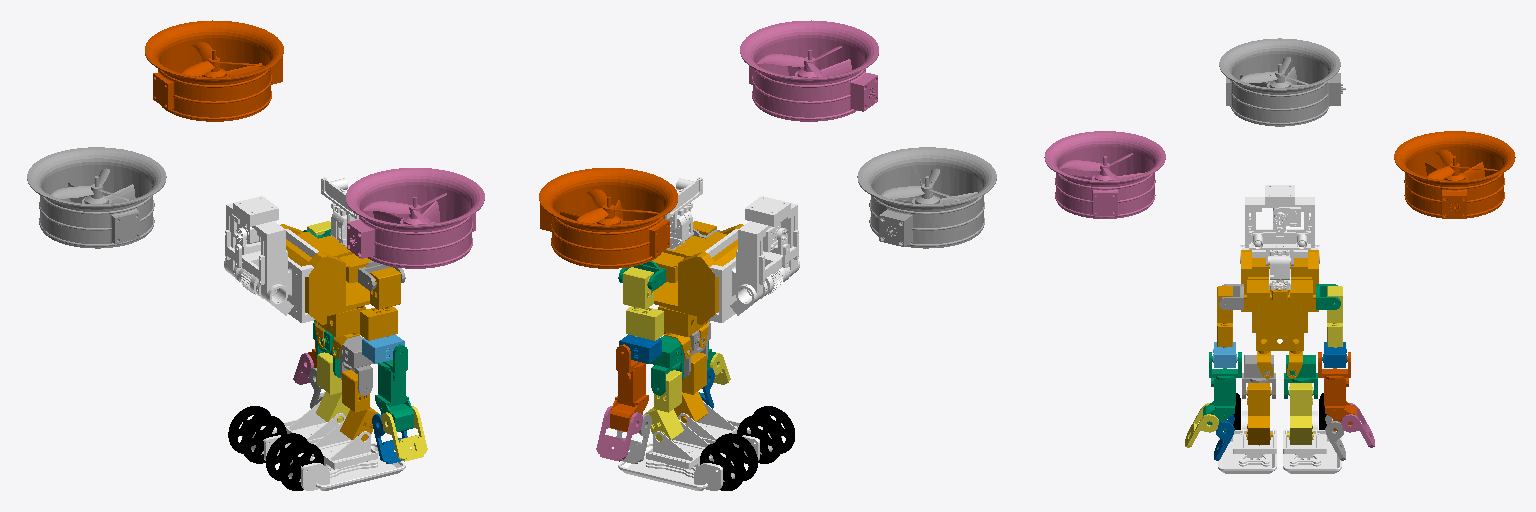
--- What the picture shows (computed from the rendered views, not written in the file) ---
Views: 3 orthographic renders of the robot side by side, from view 1: azimuth 30°, elevation 25°; view 2: azimuth 150°, elevation 25°; view 3: azimuth 270°, elevation 25°.
Model khrsugihara with 36 links and 35 joints (30 continuous, 5 fixed), rooted at BASE_LINK, posed all joints at 0.
Links seen in each view (by area): view 1: thrust_link2, thrust_link1, thrust_link3, BASE_LINK, DOCKING_HAND, RLEG_LINK2, RARM_LINK1, RARM_LINK3, DOCKING_PIPE, RLEG_LINK1, LLEG_LINK1, LLEG_LINK2 (+9 smaller); view 2: thrust_link2, thrust_link1, thrust_link3, BASE_LINK, DOCKING_HAND, LLEG_LINK2, LARM_LINK1, LARM_LINK3, DOCKING_PIPE, LLEG_LINK1, RLEG_LINK1, RLEG_LINK2 (+10 smaller); view 3: thrust_link3, thrust_link1, thrust_link2, BASE_LINK, DOCKING_HAND, LLEG_LINK2, RLEG_LINK2, LARM_LINK3, RARM_LINK3, LLEG_LINK1, RLEG_LINK1, HEAD_LINK1 (+8 smaller).
Link boxes in pixels (x1,y1,x2,y2): thrust_link2: (346,168,484,268); thrust_link1: (145,20,283,121); thrust_link3: (27,147,166,248); BASE_LINK: (280,224,371,358); DOCKING_HAND: (224,196,293,315); RLEG_LINK2: (288,420,405,490); RARM_LINK1: (360,267,400,340); RARM_LINK3: (375,344,413,431); DOCKING_PIPE: (233,229,318,322); RLEG_LINK1: (340,370,378,441); LLEG_LINK1: (316,352,349,422); LLEG_LINK2: (242,401,345,460); thrust_link2: (740,20,878,121); thrust_link1: (539,168,677,268); thrust_link3: (857,147,996,248); BASE_LINK: (652,224,743,358); DOCKING_HAND: (730,196,799,315); LLEG_LINK2: (618,420,734,490); LARM_LINK1: (623,267,663,340); LARM_LINK3: (610,344,648,431); DOCKING_PIPE: (705,229,790,322); LLEG_LINK1: (645,370,683,441); RLEG_LINK1: (674,352,707,422); RLEG_LINK2: (678,401,781,460); thrust_link3: (1219,38,1345,126); thrust_link1: (1394,131,1515,218); thrust_link2: (1044,131,1165,218); BASE_LINK: (1241,250,1318,378); DOCKING_HAND: (1240,185,1319,263); LLEG_LINK2: (1283,411,1341,473); RLEG_LINK2: (1218,411,1276,473); LARM_LINK3: (1318,352,1356,430); RARM_LINK3: (1203,352,1241,430); LLEG_LINK1: (1287,383,1313,444); RLEG_LINK1: (1246,383,1272,444); HEAD_LINK1: (1249,231,1310,266).
Bounding box of the posed robot: 0.4695 × 0.64 × 0.4422 m (x, y, z).
30 mesh visuals loaded from 26 distinct referenced files (25 binary STL); not drawn: 1 (reference not matched to a file when rendering).

robot.urdf — khrsugihara:
<?xml version="1.0"?>
<robot name="khrsugihara"
       xmlns:xi="http://www.w3.org/2001/XInclude">

  <mujoco>
    <compiler balanceinertia="true"/>
  </mujoco>

  <link name="BASE_LINK">
    <visual>
      <origin xyz="0.0028 0 0.31981" rpy="0 -0 0"/>
      <geometry>
        <mesh filename="bodyset93922848311048_mesh.stl" scale="1 1 1" />
      </geometry>
    </visual>
    <collision>
      <origin xyz="0.0028 0 0.31981" rpy="0 -0 0"/>
      <geometry>
        <mesh filename="bodyset93922848311048_mesh.stl" scale="1 1 1" />
      </geometry>
    </collision>
    <inertial>
      <mass value="0.512289" />
      <origin xyz="-0.021008 1.50905e-17 0.021848" rpy="0 -0 0"/>
      <inertia ixx="0.002091" ixy="3.87489e-05" ixz="-9.33077e-07" iyy="0.002015" iyz="-7.26528e-06" izz="0.001643"/>
    </inertial>
  </link>

  <link name="DOCKING_PIPE">
    <visual>
      <origin xyz="0 0 0" rpy="0 -0 0"/>
      <geometry>
        <mesh filename="lock_joint_combining_pipe_mount_khr_parallel.STL" scale="0.001 0.001 0.001" />
      </geometry>
      <material name="white">
        <color rgba="1.0 1.0 1.0 1.0"/>
      </material>
    </visual>
    <collision>
      <origin xyz="0 0 0" rpy="0 -0 0"/>
      <geometry>
        <mesh filename="combining_pipe_mount_khr_parallel.STL" scale="0.001 0.001 0.001" />
      </geometry>
    </collision>
    <inertial>
      <mass value="0.14" />
      <origin xyz="0 0 0" rpy="0 0 0"/>
      <inertia ixx="0.000001" ixy="0.000001" ixz="0.000001" iyy="0.000001" iyz="0.000001" izz="0.000001"/>
    </inertial>
  </link>

  <link name="DOCKING_HAND">
    <visual>
      <origin xyz="0 0 0" rpy="0 -0 0"/>
      <geometry>
        <mesh filename="lock_joint.STL" scale="0.001 0.001 0.001" />
      </geometry>
      <material name="white">
        <color rgba="1.0 1.0 1.0 1.0"/>
      </material>
    </visual>
    <collision>
      <origin xyz="0 0 0" rpy="0 -0 0"/>
      <geometry>
        <mesh filename="cam_hand_v6.STL" scale="0.001 0.001 0.001" />
      </geometry>
    </collision>
    <inertial>
      <mass value="0.2" />
      <origin xyz="0 0 0" rpy="0 0 0"/>
      <inertia ixx="0.000001" ixy="0.000001" ixz="0.000001" iyy="0.000001" iyz="0.000001" izz="0.000001"/>
    </inertial>
  </link>

  <link name="flight_unit_dummy"/>

  <link name="FLIGHT_UNIT">
    <visual>
      <!-- origin is temporary value -->
      <origin xyz="0 0 0" rpy="0 -0 0"/>
      <geometry>
        <mesh filename="kxr_flight_trirotor_base_link.STL" scale="0.001 0.001 0.001" />
      </geometry>
      <material name="white">
        <color rgba="1.0 1.0 1.0 1.0"/>
      </material>
    </visual>
    <collision>
      <origin xyz="0 0 0" rpy="0 -0 0"/>
      <geometry>
        <mesh filename="kxr_flight_trirotor_base_link.STL" scale="0.001 0.001 0.001" />
      </geometry>
    </collision>
    <inertial>
      <mass value="1.1" />
      <origin xyz="0 0 0" rpy="0 0 0"/>
      <inertia ixx="0" ixy="0" ixz="0" iyy="0" iyz="0" izz="0"/>
    </inertial>
  </link>

  <link name="thrust_link1">
    <visual>
      <origin xyz="0 0 0"/>
      <geometry>
        <mesh filename="thrust_link.STL" scale="0.001 0.001 0.001" />
      </geometry>
    </visual>
    <collision>
      <origin xyz="0 0 0"/>
      <geometry>
        <mesh filename="thrust_link.STL" scale="0.001 0.001 0.001" />
      </geometry>
    </collision>
  </link>

  <link name="thrust_link2">
    <visual>
      <origin xyz="0 0 0"/>
      <geometry>
        <mesh filename="thrust_link.STL" scale="0.001 0.001 0.001" />
      </geometry>
    </visual>
    <collision>
      <origin xyz="0 0 0"/>
      <geometry>
        <mesh filename="thrust_link.STL" scale="0.001 0.001 0.001" />
      </geometry>
    </collision>
  </link>

  <link name="thrust_link3">
    <visual>
      <origin xyz="0 0 0"/>
      <geometry>
        <mesh filename="thrust_link.STL" scale="0.001 0.001 0.001" />
      </geometry>
    </visual>
    <collision>
      <origin xyz="0 0 0"/>
      <geometry>
        <mesh filename="thrust_link.STL" scale="0.001 0.001 0.001" />
      </geometry>
    </collision>
  </link>

  <!-- <link name="HEAD_LINK0"> -->
  <!--   <visual> -->
  <!--     <origin xyz="0.0115 0 0.064" rpy="0 -0 0"/> -->
  <!--     <geometry> -->
  <!--       <mesh filename="package://kxr_robot_description/model/khrsugihara/mesh/simple/HEAD_LINK0_mesh.stl" scale="1 1 1" /> -->
  <!--     </geometry> -->
  <!--   </visual> -->
  <!--   <collision> -->
  <!--     <origin xyz="0.0115 0 0.064" rpy="0 -0 0"/> -->
  <!--     <geometry> -->
  <!--       <mesh filename="package://kxr_robot_description/model/khrsugihara/mesh/simple/HEAD_LINK0_mesh.stl" scale="1 1 1" /> -->
  <!--     </geometry> -->
  <!--   </collision> -->
  <!--   <inertial> -->
  <!--     <mass value="0.014361" /> -->
  <!--     <origin xyz="0.003285 -2.30629e-06 0.020555" rpy="0 -0 0"/> -->
  <!--     <inertia ixx="4.95528e-05" ixy="-1.38168e-11" ixz="-7.3432e-08" iyy="4.45537e-05" iyz="-2.01845e-09" izz="1.47912e-05"/> -->
  <!--   </inertial> -->
  <!-- </link> -->


  <link name="HEAD_LINK0">
    <visual>
      <origin xyz="0 0 0" rpy="0 -0 0"/>
      <geometry>
        <mesh filename="head_link1.STL" scale="0.001 0.001 0.001" />
      </geometry>
      <material name="white">
        <color rgba="1.0 1.0 1.0 1.0"/>
      </material>
    </visual>
    <collision>
      <origin xyz="0 0 0" rpy="0 -0 0"/>
      <geometry>
        <mesh filename="head_link1.STL" scale="0.001 0.001 0.001" />
      </geometry>
    </collision>
    <inertial>
      <mass value="0.014361" />
      <origin xyz="0.003285 -2.30629e-06 0.020555" rpy="0 -0 0"/>
      <!-- <mass value="0.0149" /> -->
      <!-- <origin xyz="0.002048 0 0.020747" rpy="0 -0 0"/> -->
      <inertia ixx="4.95528e-05" ixy="-1.38168e-11" ixz="-7.3432e-08" iyy="4.45537e-05" iyz="-2.01845e-09" izz="1.47912e-05"/>
    </inertial>
  </link>

  <link name="HEAD_LINK1">
    <visual>
      <origin xyz="0 0 0" rpy="0 -0 0"/>
      <geometry>
        <mesh filename="head_link2.STL" scale="0.001 0.001 0.001" />
      </geometry>
      <material name="white">
        <color rgba="1.0 1.0 1.0 1.0"/>
      </material>
    </visual>
    <collision>
      <origin xyz="0 0 0" rpy="0 -0 0"/>
      <geometry>
        <mesh filename="head_link2.STL" scale="0.001 0.001 0.001" />
      </geometry>
    </collision>
    <inertial>
      <mass value="0.014361" />
      <origin xyz="0.003285 -2.30629e-06 0.020555" rpy="0 -0 0"/>
      <!-- <mass value="0.0149" /> -->
      <!-- <origin xyz="0.002048 0 0.020747" rpy="0 -0 0"/> -->
      <inertia ixx="4.95528e-05" ixy="-1.38168e-11" ixz="-7.3432e-08" iyy="4.45537e-05" iyz="-2.01845e-09" izz="1.47912e-05"/>
    </inertial>
  </link>

  <link name="LARM_LINK0">
    <visual>
      <origin xyz="0.0115 0.049 0.0474" rpy="0 -0 0"/>
      <geometry>
        <mesh filename="LARM_LINK0_mesh.stl" scale="1 1 1" />
      </geometry>
    </visual>
    <collision>
      <origin xyz="0.0115 0.049 0.0474" rpy="0 -0 0"/>
      <geometry>
        <mesh filename="LARM_LINK0_mesh.stl" scale="1 1 1" />
      </geometry>
    </collision>
    <inertial>
      <mass value="0.016639" />
      <origin xyz="1.73472e-18 0 0.009163" rpy="0 -0 0"/>
      <inertia ixx="3.04092e-05" ixy="-4.27652e-10" ixz="4.33505e-10" iyy="2.27027e-05" iyz="2.22978e-08" izz="2.23763e-05"/>
    </inertial>
  </link>

  <link name="LARM_LINK1">
    <visual>
      <origin xyz="0.01975 0.0255 0" rpy="0 -0 0"/>
      <geometry>
        <mesh filename="LARM_LINK1_mesh.stl" scale="1 1 1" />
      </geometry>
    </visual>
    <collision>
      <origin xyz="0.01975 0.0255 0" rpy="0 -0 0"/>
      <geometry>
        <mesh filename="LARM_LINK1_mesh.stl" scale="1 1 1" />
      </geometry>
    </collision>
    <inertial>
      <mass value="0.08566" />
      <origin xyz="-0.02425 0 -0.03275" rpy="0 -0 0"/>
      <inertia ixx="4.0299e-05" ixy="-8.32865e-25" ixz="-3.89972e-23" iyy="6.60435e-05" iyz="9.2227e-21" izz="7.43506e-05"/>
    </inertial>
  </link>

  <link name="LARM_LINK2">
    <visual>
      <origin xyz="-0.016 0 -0.075" rpy="0 -0 0"/>
      <geometry>
        <mesh filename="LARM_LINK2_mesh.stl" scale="1 1 1" />
      </geometry>
    </visual>
    <collision>
      <origin xyz="-0.016 0 -0.075" rpy="0 -0 0"/>
      <geometry>
        <mesh filename="LARM_LINK2_mesh.stl" scale="1 1 1" />
      </geometry>
    </collision>
    <inertial>
      <mass value="0.04283" />
      <origin xyz="0.0115 0 1.04083e-17" rpy="0 -0 0"/>
      <inertia ixx="2.11725e-05" ixy="4.25575e-26" ixz="-1.88949e-23" iyy="3.40543e-05" iyz="1.04267e-20" izz="3.71848e-05"/>
    </inertial>
  </link>

  <link name="LARM_LINK3">
    <visual>
      <origin xyz="0.005 -0.02 -0.0135" rpy="0 -0 0"/>
      <geometry>
        <mesh filename="LARM_LINK3_mesh.stl" scale="1 1 1" />
      </geometry>
    </visual>
    <collision>
      <origin xyz="0.005 -0.02 -0.0135" rpy="0 -0 0"/>
      <geometry>
        <mesh filename="LARM_LINK3_mesh.stl" scale="1 1 1" />
      </geometry>
    </collision>
    <inertial>
      <mass value="0.103189" />
      <origin xyz="0.020249 0.078299 -0.090369" rpy="0 -0 0"/>
      <inertia ixx="0.000181" ixy="-4.31592e-10" ixz="7.13592e-09" iyy="0.000153" iyz="1.62738e-08" izz="0.00013"/>
    </inertial>
  </link>

  <link name="LARM_LINK4">
    <visual>
      <origin xyz="0 0.041 -0.0885" rpy="0 -0 0"/>
      <geometry>
        <mesh filename="LARM_LINK4_mesh.stl" scale="1 1 1" />
      </geometry>
    </visual>
    <collision>
      <origin xyz="0 0.041 -0.0885" rpy="0 -0 0"/>
      <geometry>
        <mesh filename="LARM_LINK4_mesh.stl" scale="1 1 1" />
      </geometry>
    </collision>
    <inertial>
      <mass value="0.013267" />
      <origin xyz="-1.73472e-17 0.035557 -0.037608" rpy="0 -0 0"/>
      <inertia ixx="0.000172" ixy="-2.54028e-09" ixz="-2.35822e-09" iyy="0.000111" iyz="-1.52851e-07" izz="7.02482e-05"/>
    </inertial>
  </link>

  <link name="LARM_LINK5">
    <visual>
      <origin xyz="0 0.02 -0.099" rpy="0 -0 0"/>
      <geometry>
        <mesh filename="LARM_LINK5_mesh.stl" scale="1 1 1" />
      </geometry>
    </visual>
    <collision>
      <origin xyz="0 0.02 -0.099" rpy="0 -0 0"/>
      <geometry>
        <mesh filename="LARM_LINK5_mesh.stl" scale="1 1 1" />
      </geometry>
    </collision>
    <inertial>
      <mass value="0.013267" />
      <origin xyz="6.93889e-18 0.003352 -0.05371" rpy="0 -0 0"/>
      <inertia ixx="0.000166" ixy="-2.54028e-09" ixz="-2.35822e-09" iyy="0.000136" iyz="-1.52851e-07" izz="3.93408e-05"/>
    </inertial>
  </link>

  <link name="LARM_DUMMY_LINK">
    <inertial>
      <mass value="0.001" />
      <inertia ixx="0.000001" ixy="0.000001" ixz="0.000001" iyy="0.000001" iyz="0.000001" izz="0.000001"/>
    </inertial>
  </link>

  <link name="LLEG_DUMMY_LINK_0">
    <inertial>
      <mass value="0.001" />
      <inertia ixx="0.000001" ixy="0.000001" ixz="0.000001" iyy="0.000001" iyz="0.000001" izz="0.000001"/>
    </inertial>
  </link>

  <link name="LLEG_LINK0">
    <visual>
      <origin xyz="0.0185 0.017 -0.06265" rpy="0 -0 0"/>
      <geometry>
        <mesh filename="LLEG_LINK0_mesh.stl" scale="1 1 1" />
      </geometry>
    </visual>
    <collision>
      <origin xyz="0.0185 0.017 -0.06265" rpy="0 -0 0"/>
      <geometry>
        <mesh filename="LLEG_LINK0_mesh.stl" scale="1 1 1" />
      </geometry>
    </collision>
    <inertial>
      <mass value="0.059469" />
      <origin xyz="-0.02 0.0115 -0.006481" rpy="0 -0 0"/>
      <inertia ixx="6.38537e-05" ixy="-4.27652e-10" ixz="4.33505e-10" iyy="7.24478e-05" iyz="2.22978e-08" izz="4.57767e-05"/>
    </inertial>
  </link>

  <link name="LLEG_LINK1">
    <visual>
      <origin xyz="-0.021 -0.00825 -0.0385" rpy="0 -0 0"/>
      <geometry>
        <mesh filename="LLEG_LINK1_mesh.stl" scale="1 1 1" />
      </geometry>
    </visual>
    <collision>
      <origin xyz="-0.021 -0.00825 -0.0385" rpy="0 -0 0"/>
      <geometry>
        <mesh filename="LLEG_LINK1_mesh.stl" scale="1 1 1" />
      </geometry>
    </collision>
    <inertial>
      <mass value="0.08566" />
      <origin xyz="0.002875 0.02 -0.03327" rpy="0 -0 0"/>
      <inertia ixx="6.66048e-05" ixy="3.53549e-22" ixz="-1.97268e-23" iyy="0.000102" iyz="1.65264e-20" izz="6.47859e-05"/>
    </inertial>
  </link>

  <link name="LLEG_LINK2">
    <visual>
      <origin xyz="0 0 0" rpy="0 -0 0"/>
      <geometry>
        <mesh filename="lleg_foot_force.stl" scale="0.001 0.001 0.001" />
      </geometry>
      <material name="white">
        <color rgba="1.0 1.0 1.0 1.0"/>
      </material>
    </visual>
    <collision>
      <origin xyz="0 0 0" rpy="0 -0 0"/>
      <geometry>
        <mesh filename="lleg_foot_force.stl" scale="0.001 0.001 0.001" />
      </geometry>
    </collision>
    <inertial>
      <mass value="0.23"/>
      <origin xyz="0.005048 0.02 -0.042868" rpy="0 -0 0"/>
      <inertia ixx="0.00058" ixy="-0.00032" ixz="0.00026" iyy="0.00093" iyz="-0.00024" izz="0.00103"/>
    </inertial>
  </link>

  <link name="LLEG_LINK_WHEEL1">
    <visual>
      <origin xyz="0 0 0" rpy="0 -0 0"/>
      <geometry>
        <mesh filename="wheel.stl" scale="0.001 0.001 0.001" />
      </geometry>
      <material name="black">
        <color rgba=".0 .0 .0 1.0"/>
      </material>
    </visual>
    <collision>
      <origin xyz="0 0 0" rpy="0 -0 0"/>
      <geometry>
        <mesh filename="wheel.stl" scale="0.001 0.001 0.001" />
      </geometry>
    </collision>
    <inertial>
      <mass value="0.025" />
      <origin xyz="0 0 0" rpy="0 -0 0"/>
      <inertia ixx="6.69e-6" ixy="0" ixz="0" iyy="1.293e-5" iyz="0" izz="6.69e-6"/>
    </inertial>
  </link>

  <link name="LLEG_LINK_WHEEL2">
    <visual>
      <origin xyz="0 0 0" rpy="0 -0 0"/>
      <geometry>
        <mesh filename="wheel.stl" scale="0.001 0.001 0.001" />
      </geometry>
      <material name="black">
        <color rgba=".0 .0 .0 1.0"/>
      </material>
    </visual>
    <collision>
      <origin xyz="0 0 0" rpy="0 -0 0"/>
      <geometry>
        <mesh filename="wheel.stl" scale="0.001 0.001 0.001" />
      </geometry>
    </collision>
    <inertial>
      <mass value="0.025" />
      <origin xyz="0 0 0" rpy="0 -0 0"/>
      <inertia ixx="6.69e-6" ixy="0" ixz="0" iyy="1.293e-5" iyz="0" izz="6.69e-6"/>
    </inertial>
  </link>

  <link name="RARM_LINK0">
    <visual>
      <origin xyz="0.0115 -0.049 0.0474" rpy="0 -0 0"/>
      <geometry>
        <mesh filename="RARM_LINK0_mesh.stl" scale="1 1 1" />
      </geometry>
    </visual>
    <collision>
      <origin xyz="0.0115 -0.049 0.0474" rpy="0 -0 0"/>
      <geometry>
        <mesh filename="RARM_LINK0_mesh.stl" scale="1 1 1" />
      </geometry>
    </collision>
    <inertial>
      <mass value="0.016639" />
      <origin xyz="1.73472e-18 0 0.009163" rpy="0 -0 0"/>
      <inertia ixx="3.04092e-05" ixy="-4.27652e-10" ixz="4.33505e-10" iyy="2.27027e-05" iyz="2.22978e-08" izz="2.23763e-05"/>
    </inertial>
  </link>

  <link name="RARM_LINK1">
    <visual>
      <origin xyz="0.01975 -0.0255 0" rpy="0 -0 0"/>
      <geometry>
        <mesh filename="RARM_LINK1_mesh.stl" scale="1 1 1" />
      </geometry>
    </visual>
    <collision>
      <origin xyz="0.01975 -0.0255 0" rpy="0 -0 0"/>
      <geometry>
        <mesh filename="RARM_LINK1_mesh.stl" scale="1 1 1" />
      </geometry>
    </collision>
    <inertial>
      <mass value="0.08566" />
      <origin xyz="-0.02425 0 -0.03275" rpy="0 -0 0"/>
      <inertia ixx="4.0299e-05" ixy="-8.32865e-25" ixz="-3.89972e-23" iyy="6.60435e-05" iyz="9.2227e-21" izz="7.43506e-05"/>
    </inertial>
  </link>

  <link name="RARM_LINK2">
    <visual>
      <origin xyz="-0.016 0 -0.075" rpy="0 -0 0"/>
      <geometry>
        <mesh filename="RARM_LINK2_mesh.stl" scale="1 1 1" />
      </geometry>
    </visual>
    <collision>
      <origin xyz="-0.016 0 -0.075" rpy="0 -0 0"/>
      <geometry>
        <mesh filename="RARM_LINK2_mesh.stl" scale="1 1 1" />
      </geometry>
    </collision>
    <inertial>
      <mass value="0.04283" />
      <origin xyz="0.0115 0 1.04083e-17" rpy="0 -0 0"/>
      <inertia ixx="2.11725e-05" ixy="4.25575e-26" ixz="-1.88949e-23" iyy="3.40543e-05" iyz="1.04267e-20" izz="3.71848e-05"/>
    </inertial>
  </link>

  <link name="RARM_LINK3">
    <visual>
      <origin xyz="0.005 0.02 -0.0135" rpy="0 -0 0"/>
      <geometry>
        <mesh filename="RARM_LINK3_mesh.stl" scale="1 1 1" />
      </geometry>
    </visual>
    <collision>
      <origin xyz="0.005 0.02 -0.0135" rpy="0 -0 0"/>
      <geometry>
        <mesh filename="RARM_LINK3_mesh.stl" scale="1 1 1" />
      </geometry>
    </collision>
    <inertial>
      <mass value="0.103189" />
      <origin xyz="0.020251 -0.078299 -0.090369" rpy="0 -0 0"/>
      <inertia ixx="0.000181" ixy="-4.31592e-10" ixz="7.13592e-09" iyy="0.000153" iyz="1.62738e-08" izz="0.00013"/>
    </inertial>
  </link>

  <link name="RARM_LINK4">
    <visual>
      <origin xyz="0 -0.041 -0.0885" rpy="0 -0 0"/>
      <geometry>
        <mesh filename="RARM_LINK4_mesh.stl" scale="1 1 1" />
      </geometry>
    </visual>
    <collision>
      <origin xyz="0 -0.041 -0.0885" rpy="0 -0 0"/>
      <geometry>
        <mesh filename="RARM_LINK4_mesh.stl" scale="1 1 1" />
      </geometry>
    </collision>
    <inertial>
      <mass value="0.013267" />
      <origin xyz="1.04083e-17 -0.035557 -0.037608" rpy="0 -0 0"/>
      <inertia ixx="0.000172" ixy="-2.54028e-09" ixz="-2.35822e-09" iyy="0.000111" iyz="-1.52851e-07" izz="7.02482e-05"/>
    </inertial>
  </link>

  <link name="RARM_LINK5">
    <visual>
      <origin xyz="0 -0.02 -0.099" rpy="0 -0 0"/>
      <geometry>
        <mesh filename="RARM_LINK5_mesh.stl" scale="1 1 1" />
      </geometry>
    </visual>
    <collision>
      <origin xyz="0 -0.02 -0.099" rpy="0 -0 0"/>
      <geometry>
        <mesh filename="RARM_LINK5_mesh.stl" scale="1 1 1" />
      </geometry>
    </collision>
    <inertial>
      <mass value="0.013267" />
      <origin xyz="-6.93889e-18 -0.003352 -0.05371" rpy="0 -0 0"/>
      <inertia ixx="0.000166" ixy="-2.54028e-09" ixz="-2.35822e-09" iyy="0.000136" iyz="-1.52851e-07" izz="3.93408e-05"/>
    </inertial>
  </link>

  <link name="RARM_DUMMY_LINK">
    <inertial>
      <mass value="0.001" />
      <inertia ixx="0.000001" ixy="0.000001" ixz="0.000001" iyy="0.000001" iyz="0.000001" izz="0.000001"/>
    </inertial>
  </link>

  <link name="RLEG_DUMMY_LINK_0">
    <inertial>
      <mass value="0.001" />
      <inertia ixx="0.000001" ixy="0.000001" ixz="0.000001" iyy="0.000001" iyz="0.000001" izz="0.000001"/>
    </inertial>
  </link>


  <link name="RLEG_LINK0">
    <visual>
      <origin xyz="0.0185 -0.017 -0.06265" rpy="0 -0 0"/>
      <geometry>
        <mesh filename="RLEG_LINK0_mesh.stl" scale="1 1 1" />
      </geometry>
    </visual>
    <collision>
      <origin xyz="0.0185 -0.017 -0.06265" rpy="0 -0 0"/>
      <geometry>
        <mesh filename="RLEG_LINK0_mesh.stl" scale="1 1 1" />
      </geometry>
    </collision>
    <inertial>
      <mass value="0.059469" />
      <origin xyz="-0.02 -0.0115 -0.006481" rpy="0 -0 0"/>
      <inertia ixx="6.38537e-05" ixy="-4.27652e-10" ixz="4.33505e-10" iyy="7.24478e-05" iyz="2.22978e-08" izz="4.57767e-05"/>
    </inertial>
  </link>

  <link name="RLEG_LINK1">
    <visual>
      <origin xyz="-0.021 0.00825 -0.0385" rpy="0 -0 0"/>
      <geometry>
        <mesh filename="RLEG_LINK1_mesh.stl" scale="1 1 1" />
      </geometry>
    </visual>
    <collision>
      <origin xyz="-0.021 0.00825 -0.0385" rpy="0 -0 0"/>
      <geometry>
        <mesh filename="RLEG_LINK1_mesh.stl" scale="1 1 1" />
      </geometry>
    </collision>
    <inertial>
      <mass value="0.08566" />
      <origin xyz="0.002875 -0.02 -0.03327" rpy="0 -0 0"/>
      <inertia ixx="6.66048e-05" ixy="3.53549e-22" ixz="-1.97268e-23" iyy="0.000102" iyz="1.65264e-20" izz="6.47859e-05"/>
    </inertial>
  </link>

  <link name="RLEG_LINK2">
    <visual>
      <origin xyz="0 0 0" rpy="0 -0 0"/>
      <geometry>
        <mesh filename="rleg_foot_force.stl" scale="0.001 0.001 0.001" />
      </geometry>
      <material name="white">
        <color rgba="1 1 1 1"/>
      </material>
    </visual>
    <collision>
      <origin xyz="0 0 0" rpy="0 -0 0"/>
      <geometry>
        <mesh filename="rleg_foot_force.stl" scale="0.001 0.001 0.001" />
      </geometry>
    </collision>
    <inertial>
      <mass value="0.23" />
      <origin xyz="0.005048 -0.02 -0.042868" rpy="0 -0 0"/>
      <inertia ixx="0.00058" ixy="0.00032" ixz="0.00026" iyy="0.00093" iyz="0.00024" izz="0.00103"/>
    </inertial>
  </link>

  <link name="RLEG_LINK_WHEEL1">
    <visual>
      <origin xyz="0 0 0" rpy="0 -0 0"/>
      <geometry>
        <mesh filename="wheel.stl" scale="0.001 0.001 0.001" />
      </geometry>
      <material name="black">
        <color rgba=".0 .0 .0 1.0"/>
      </material>
    </visual>
    <collision>
      <origin xyz="0 0 0" rpy="0 -0 0"/>
      <geometry>
        <mesh filename="wheel.stl" scale="0.001 0.001 0.001" />
      </geometry>
    </collision>
    <inertial>
      <mass value="0.025" />
      <origin xyz="0 0 0" rpy="0 -0 0"/>
      <inertia ixx="6.69e-6" ixy="0" ixz="0" iyy="1.293e-5" iyz="0" izz="6.69e-6"/>
    </inertial>
  </link>

  <link name="RLEG_LINK_WHEEL2">
    <visual>
      <origin xyz="0 0 0" rpy="0 -0 0"/>
      <geometry>
        <mesh filename="wheel.stl" scale="0.001 0.001 0.001" />
      </geometry>
      <material name="black">
        <color rgba=".0 .0 .0 1.0"/>
      </material>
    </visual>
    <collision>
      <origin xyz="0 0 0" rpy="0 -0 0"/>
      <geometry>
        <mesh filename="wheel.stl" scale="0.001 0.001 0.001" />
      </geometry>
    </collision>
    <inertial>
      <mass value="0.025" />
      <origin xyz="0 0 0" rpy="0 -0 0"/>
      <inertia ixx="6.69e-6" ixy="0" ixz="0" iyy="1.293e-5" iyz="0" izz="6.69e-6"/>
    </inertial>
  </link>

  <joint name="HEAD_JOINT0" type="continuous">
    <parent link="BASE_LINK"/>
    <child  link="HEAD_LINK0"/>
    <origin xyz="0.0115 0 0.064" rpy="0 -0 0 "/>
    <axis   xyz="0 0 1"/>
    <limit lower="-3.14159" upper="3.14159" effort="100" velocity="0.5" />
    <dynamics damping="0.2" friction="0" />
  </joint>

  <joint name="HEAD_JOINT1" type="continuous">
    <parent link="HEAD_LINK0"/>
    <child  link="HEAD_LINK1"/>
    <origin xyz="-0.0105 0 0.033" rpy="0 -0 0 "/>
    <axis   xyz="0 1 0"/>
    <limit lower="-3.14159" upper="3.14159" effort="100" velocity="0.5" />
    <dynamics damping="0.2" friction="0" />
  </joint>

  <joint name="DOCKING_PIPE_JOINT" type="fixed">
    <parent link="BASE_LINK"/>
    <child  link="DOCKING_PIPE"/>
    <origin xyz="-0.0565 0 0.040" rpy="0 -0 0 "/>
  </joint>

  <joint name="DOCKING_JOINT" type="continuous">
    <parent link="DOCKING_PIPE"/>
    <child  link="DOCKING_HAND"/>
    <origin xyz="-0.0655 0 0.0086" rpy="0 -0 0 "/>
    <axis   xyz="0 1 0"/>
    <limit lower="-3.14159" upper="3.14159" effort="100" velocity="0.5" />
    <dynamics damping="0.2" friction="0" />
  </joint>

  <joint name="FLIGHT_UNIT_DUMMY_JOINT" type="fixed">
    <parent link="DOCKING_HAND"/>
    <child  link="flight_unit_dummy"/>
    <origin xyz="0.08 0 0.096" rpy="0 -0 0 "/>
    <axis   xyz="0 1 0"/>
  </joint>

  <joint name="FLIGHT_UNIT_JOINT" type="fixed">
    <parent link="flight_unit_dummy"/>
    <child  link="FLIGHT_UNIT"/>
  </joint>

  <joint name="LARM_JOINT0" type="continuous">
    <parent link="BASE_LINK"/>
    <child  link="LARM_LINK0"/>
    <origin xyz="0.0115 0.049 0.0474" rpy="0 -0 0 "/>
    <axis   xyz="0 1 0"/>
    <limit lower="-3.14159" upper="3.14159" effort="100" velocity="0.5" />
    <dynamics damping="0.2" friction="0" />
  </joint>

  <joint name="LARM_JOINT1" type="continuous">
    <parent link="LARM_LINK0"/>
    <child  link="LARM_LINK1"/>
    <origin xyz="0.01975 0.0255 0" rpy="0 -0 0 "/>
    <axis   xyz="1 0 0"/>
    <limit lower="-3.14159" upper="3.14159" effort="100" velocity="0.5" />
    <dynamics damping="0.2" friction="0" />
  </joint>

  <joint name="LARM_JOINT2" type="continuous">
    <parent link="LARM_LINK1"/>
    <child  link="LARM_LINK2"/>
    <origin xyz="-0.016 0 -0.075" rpy="0 -0 0 "/>
    <axis   xyz="0 0 1"/>
    <limit lower="-3.14159" upper="3.14159" effort="100" velocity="0.5" />
    <dynamics damping="0.2" friction="0" />
  </joint>

  <joint name="LARM_JOINT3" type="continuous">
    <parent link="LARM_LINK2"/>
    <child  link="LARM_LINK3"/>
    <origin xyz="0.005 -0.02 -0.0135" rpy="0 -0 0 "/>
    <axis   xyz="0 1 0"/>
    <limit lower="-3.14159" upper="3.14159" effort="100" velocity="0.5" />
    <dynamics damping="0.2" friction="0" />
  </joint>

  <joint name="LARM_JOINT4" type="continuous">
    <parent link="LARM_LINK3"/>
    <child  link="LARM_LINK4"/>
    <origin xyz="0 0.041 -0.0885" rpy="0 -0 0 "/>
    <axis   xyz="1 0 0"/>
    <limit lower="-3.14159" upper="3.14159" effort="100" velocity="0.5" />
    <dynamics damping="0.2" friction="0" />
  </joint>

  <joint name="LARM_JOINT5" type="continuous">
    <parent link="LARM_LINK3"/>
    <child  link="LARM_LINK5"/>
    <origin xyz="0 0.02 -0.099" rpy="0 -0 0 "/>
    <axis   xyz="-1 1.09536e-16 5.47679e-17"/>
    <limit lower="-3.14159" upper="3.14159" effort="100" velocity="0.5" />
    <dynamics damping="0.2" friction="0" />
  </joint>

  <joint name="LARM_DUMMY" type="fixed">
    <parent link="LARM_LINK3"/>
    <child  link="LARM_DUMMY_LINK"/>
    <origin xyz="0 0.045 -0.12" rpy="1.5693386615608387 1.0707957464058213 1.5691353259370653"/>
    <axis   xyz="-1 1.09536e-16 5.47679e-17"/>
    <limit lower="-3.14159" upper="3.14159" effort="100" velocity="0.5" />
    <dynamics damping="0.2" friction="0" />
  </joint>

  <joint name="LLEG_JOINT_YAW" type="continuous">
    <parent link="BASE_LINK"/>
    <child  link="LLEG_DUMMY_LINK_0"/>
    <!-- origin is temporary value -->
    <origin xyz="0 0.023 -0.06265" rpy="0 -0 0 "/>
    <axis   xyz="0 0 1"/>
    <limit lower="-3.14159" upper="3.14159" effort="100" velocity="0.5" />
    <dynamics damping="0.2" friction="0" />
  </joint>

  <joint name="LLEG_JOINT0" type="continuous">
    <parent link="LLEG_DUMMY_LINK_0"/>
    <child  link="LLEG_LINK0"/>
    <origin xyz="0.0185 -0.006 0" rpy="0 -0 0 "/>
    <axis   xyz="1 0 0"/>
    <limit lower="-3.14159" upper="3.14159" effort="100" velocity="0.5" />
    <dynamics damping="0.2" friction="0" />
  </joint>

  <joint name="LLEG_JOINT1" type="continuous">
    <parent link="LLEG_LINK0"/>
    <child  link="LLEG_LINK1"/>
    <origin xyz="-0.021 -0.00825 -0.0385" rpy="0 -0 0 "/>
    <axis   xyz="0 1 0"/>
    <limit lower="-3.14159" upper="3.14159" effort="100" velocity="0.5" />
    <dynamics damping="0.2" friction="0" />
  </joint>

  <joint name="LLEG_JOINT2" type="continuous">
    <parent link="LLEG_LINK1"/>
    <child  link="LLEG_LINK2"/>
    <origin xyz="0 0 -0.065" rpy="0 -0 0 "/>
    <axis   xyz="0 1 0"/>
    <limit lower="-3.14159" upper="3.14159" effort="100" velocity="0.5" />
    <dynamics damping="0.2" friction="0" />
  </joint>

  <joint name="LLEG_JOINT3" type="continuous">
    <parent link="LLEG_LINK2"/>
    <child  link="LLEG_LINK_WHEEL1"/>
    <origin xyz="-0.092 0.051 -0.0125" rpy="0 -0 0 "/>
    <axis   xyz="0 1 0"/>
    <limit lower="-3.14159" upper="3.14159" effort="100" velocity="0.5" />
    <dynamics damping="0.2" friction="0" />
  </joint>

  <joint name="LLEG_JOINT4" type="continuous">
    <parent link="LLEG_LINK2"/>
    <child  link="LLEG_LINK_WHEEL2"/>
    <origin xyz="-0.092 0.020 -0.0125" rpy="0 -0 0 "/>
    <axis   xyz="0 1 0"/>
    <limit lower="-3.14159" upper="3.14159" effort="100" velocity="0.5" />
    <dynamics damping="0.2" friction="0" />
  </joint>

  <joint name="RARM_JOINT0" type="continuous">
    <parent link="BASE_LINK"/>
    <child  link="RARM_LINK0"/>
    <origin xyz="0.0115 -0.049 0.0474" rpy="0 -0 0 "/>
    <axis   xyz="0 1 0"/>
    <limit lower="-3.14159" upper="3.14159" effort="100" velocity="0.5" />
    <dynamics damping="0.2" friction="0" />
  </joint>

  <joint name="RARM_JOINT1" type="continuous">
    <parent link="RARM_LINK0"/>
    <child  link="RARM_LINK1"/>
    <origin xyz="0.01975 -0.0255 0" rpy="0 -0 0 "/>
    <axis   xyz="1 0 0"/>
    <limit lower="-3.14159" upper="3.14159" effort="100" velocity="0.5" />
    <dynamics damping="0.2" friction="0" />
  </joint>

  <joint name="RARM_JOINT2" type="continuous">
    <parent link="RARM_LINK1"/>
    <child  link="RARM_LINK2"/>
    <origin xyz="-0.016 0 -0.075" rpy="0 -0 0 "/>
    <axis   xyz="0 0 1"/>
    <limit lower="-3.14159" upper="3.14159" effort="100" velocity="0.5" />
    <dynamics damping="0.2" friction="0" />
  </joint>

  <joint name="RARM_JOINT3" type="continuous">
    <parent link="RARM_LINK2"/>
    <child  link="RARM_LINK3"/>
    <origin xyz="0.005 0.02 -0.0135" rpy="0 -0 0 "/>
    <axis   xyz="0 1 0"/>
    <limit lower="-3.14159" upper="3.14159" effort="100" velocity="0.5" />
    <dynamics damping="0.2" friction="0" />
  </joint>

  <joint name="RARM_JOINT4" type="continuous">
    <parent link="RARM_LINK3"/>
    <child  link="RARM_LINK4"/>
    <origin xyz="0 -0.041 -0.0885" rpy="0 -0 0 "/>
    <axis   xyz="-1 1.22465e-16 6.16298e-33"/>
    <limit lower="-3.14159" upper="3.14159" effort="100" velocity="0.5" />
    <dynamics damping="0.2" friction="0" />
  </joint>

  <joint name="RARM_JOINT5" type="continuous">
    <parent link="RARM_LINK3"/>
    <child  link="RARM_LINK5"/>
    <origin xyz="0 -0.02 -0.099" rpy="0 -0 0 "/>
    <axis   xyz="1 -1.29289e-17 -5.47679e-17"/>
    <limit lower="-3.14159" upper="3.14159" effort="100" velocity="0.5" />
    <dynamics damping="0.2" friction="0" />
  </joint>

  <joint name="RARM_DUMMY" type="fixed">
    <parent link="RARM_LINK3"/>
    <child  link="RARM_DUMMY_LINK"/>
    <origin xyz="0 -0.045 -0.12" rpy="-1.5693386615608387 1.0707957464058213 -1.5691353259370653"/>
    <axis   xyz="-1 1.09536e-16 5.47679e-17"/>
    <limit lower="-3.14159" upper="3.14159" effort="100" velocity="0.5" />
    <dynamics damping="0.2" friction="0" />
  </joint>

    <joint name="RLEG_JOINT_YAW" type="continuous">
    <parent link="BASE_LINK"/>
    <child  link="RLEG_DUMMY_LINK_0"/>
    <!-- origin is temporary value -->
    <origin xyz="0 -0.023 -0.06265" rpy="0 -0 0 "/>
    <axis   xyz="0 0 1"/>
    <limit lower="-3.14159" upper="3.14159" effort="100" velocity="0.5" />
    <dynamics damping="0.2" friction="0" />
  </joint>

  <joint name="RLEG_JOINT0" type="continuous">
    <parent link="RLEG_DUMMY_LINK_0"/>
    <child  link="RLEG_LINK0"/>
    <origin xyz="0.0185 0.006 0" rpy="0 -0 0 "/>
    <axis   xyz="1 0 0"/>
    <limit lower="-3.14159" upper="3.14159" effort="100" velocity="0.5" />
    <dynamics damping="0.2" friction="0" />
  </joint>

  <joint name="RLEG_JOINT1" type="continuous">
    <parent link="RLEG_LINK0"/>
    <child  link="RLEG_LINK1"/>
    <origin xyz="-0.021 0.00825 -0.0385" rpy="0 -0 0 "/>
    <axis   xyz="0 1 0"/>
    <limit lower="-3.14159" upper="3.14159" effort="100" velocity="0.5" />
    <dynamics damping="0.2" friction="0" />
  </joint>

  <joint name="RLEG_JOINT2" type="continuous">
    <parent link="RLEG_LINK1"/>
    <child  link="RLEG_LINK2"/>
    <origin xyz="0 0 -0.065" rpy="0 -0 0 "/>
    <axis   xyz="0 1 0"/>
    <limit lower="-3.14159" upper="3.14159" effort="100" velocity="0.5" />
    <dynamics damping="0.2" friction="0" />
  </joint>

  <joint name="RLEG_JOINT3" type="continuous">
    <parent link="RLEG_LINK2"/>
    <child  link="RLEG_LINK_WHEEL1"/>
    <origin xyz="-0.092 -0.020 -0.0125" rpy="0 -0 0 "/>
    <axis   xyz="0 1 0"/>
    <limit lower="-3.14159" upper="3.14159" effort="100" velocity="0.5" />
    <dynamics damping="0.2" friction="0" />
  </joint>

  <joint name="RLEG_JOINT4" type="continuous">
    <parent link="RLEG_LINK2"/>
    <child  link="RLEG_LINK_WHEEL2"/>
    <origin xyz="-0.092 -0.051 -0.0125" rpy="0 -0 0 "/>
    <axis   xyz="0 1 0"/>
    <limit lower="-3.14159" upper="3.14159" effort="100" velocity="0.5" />
    <dynamics damping="0.2" friction="0" />
  </joint>

  <joint name="gimbal1" type="continuous">
    <parent link="FLIGHT_UNIT"/>
    <child link="thrust_link1"/>
    <origin xyz="0 0.2375 0.051" rpy="0 0 1.57"/>
    <axis xyz="1 0 0"/>
  </joint>

  <joint name="gimbal2" type="continuous">
    <parent link="FLIGHT_UNIT"/>
    <child link="thrust_link2"/>
    <origin xyz="0 -0.2375 0.051" rpy="0 0 -1.57"/>
    <axis xyz="1 0 0"/>
  </joint>

  <joint name="gimbal3" type="continuous">
    <parent link="FLIGHT_UNIT"/>
    <child link="thrust_link3"/>
    <origin xyz="-0.2975 0 0.051" rpy="0 0 3.14"/>
    <axis xyz="1 0 0"/>
  </joint>

</robot>
